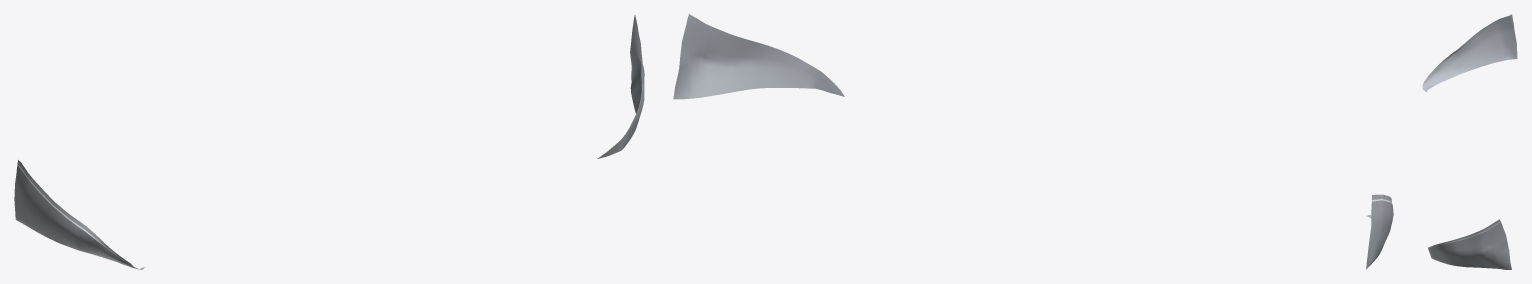
File: Pants_Flic_Knee_FACE.glb
3 renders of one model, left to right at view 1: azimuth 30°, elevation 25°; view 2: azimuth 150°, elevation 25°; view 3: azimuth 270°, elevation 25°, orthographic. The views are drawn at different scales.
Visible parts, largest first — view 1: Pants_Decor_Knee_1.001; view 2: Pants_Decor_Knee_1.001; view 3: Pants_Decor_Knee_1.001, Pants_Rope_Decor_Knee_1.001.
Part boxes in pixels (x1=…): Pants_Decor_Knee_1.001: x1=14, y1=15, x2=644, y2=269; Pants_Decor_Knee_1.001: x1=673, y1=14, x2=1393, y2=269; Pants_Decor_Knee_1.001: x1=1422, y1=14, x2=1517, y2=269; Pants_Rope_Decor_Knee_1.001: x1=1429, y1=221, x2=1500, y2=247.
Bounding box in the file's own units: 0.8105 × 0.1104 × 0.1548.
2 materials, 2 textured.
